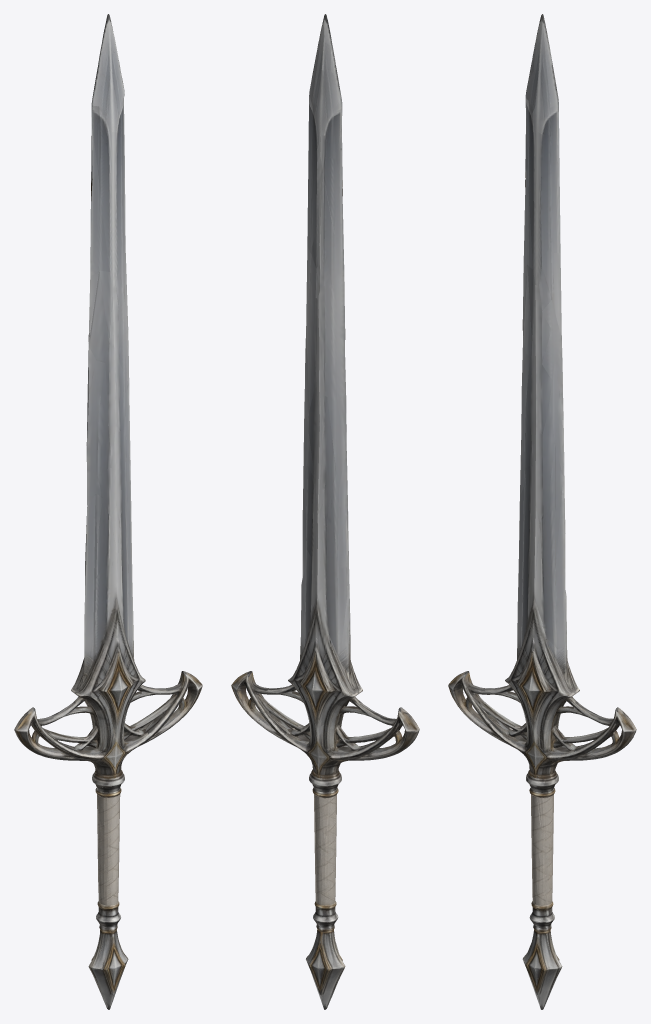
File: GRS070_Remesh_10k.fbx
3 renders of one model, left to right at view 1: azimuth 30°, elevation 25°; view 2: azimuth 150°, elevation 25°; view 3: azimuth 330°, elevation 25°, orthographic.
Visible parts, largest first — view 1: output_unwrapped; view 2: output_unwrapped; view 3: output_unwrapped.
Boxes of the visible parts, x1,y1,x2,y2 form: output_unwrapped: (14,14,202,1009); output_unwrapped: (231,14,419,1009); output_unwrapped: (448,14,636,1009).
Bounding box in the file's own units: 37.33 × 190 × 8.94.
1 material, 1 textured.
